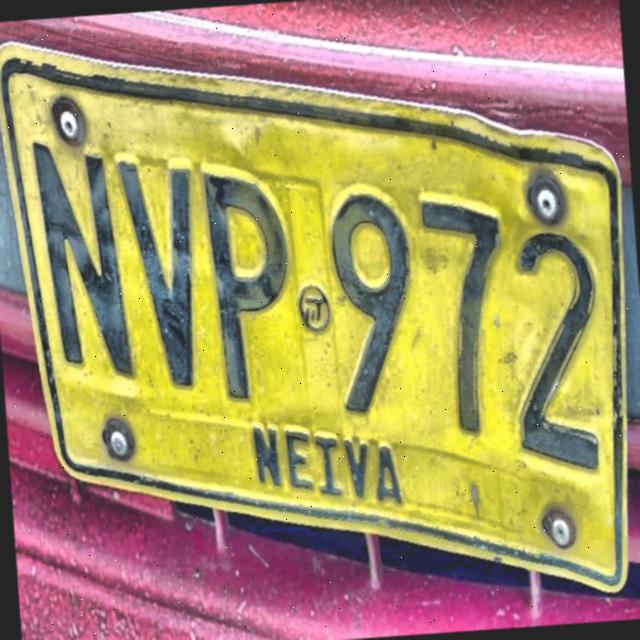plate: (0, 51, 625, 587)
